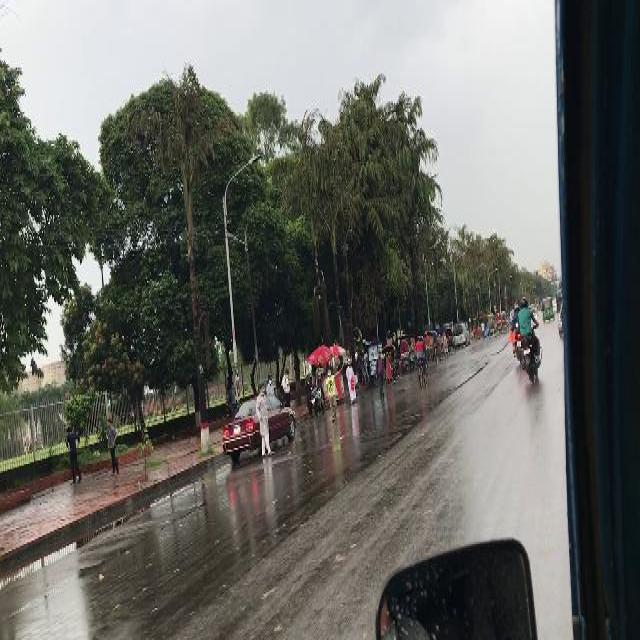car: (221, 388, 298, 464)
motorcycle: (521, 314, 541, 386), (398, 338, 412, 372), (310, 386, 324, 416), (540, 293, 553, 320), (512, 330, 520, 370), (427, 330, 436, 364), (487, 311, 495, 334), (444, 326, 451, 350), (501, 308, 508, 330), (495, 311, 500, 333)
truck: (452, 322, 469, 346)
